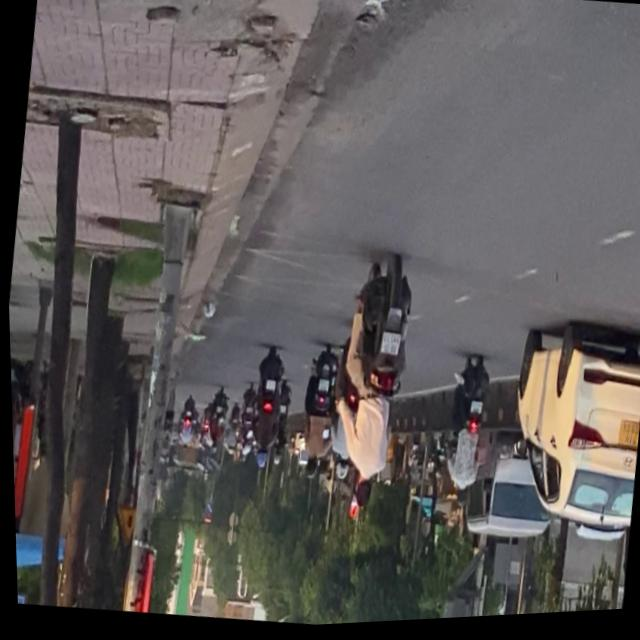licenseplate: (320, 254, 424, 528)
motorcyclist: (348, 476, 374, 518)
nohelmet: (379, 338, 399, 360)
